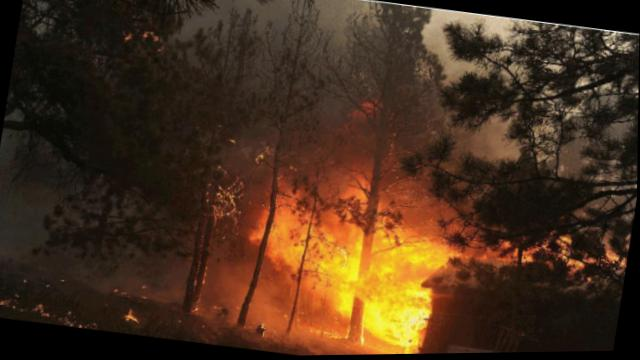fire: (245, 136, 457, 350)
